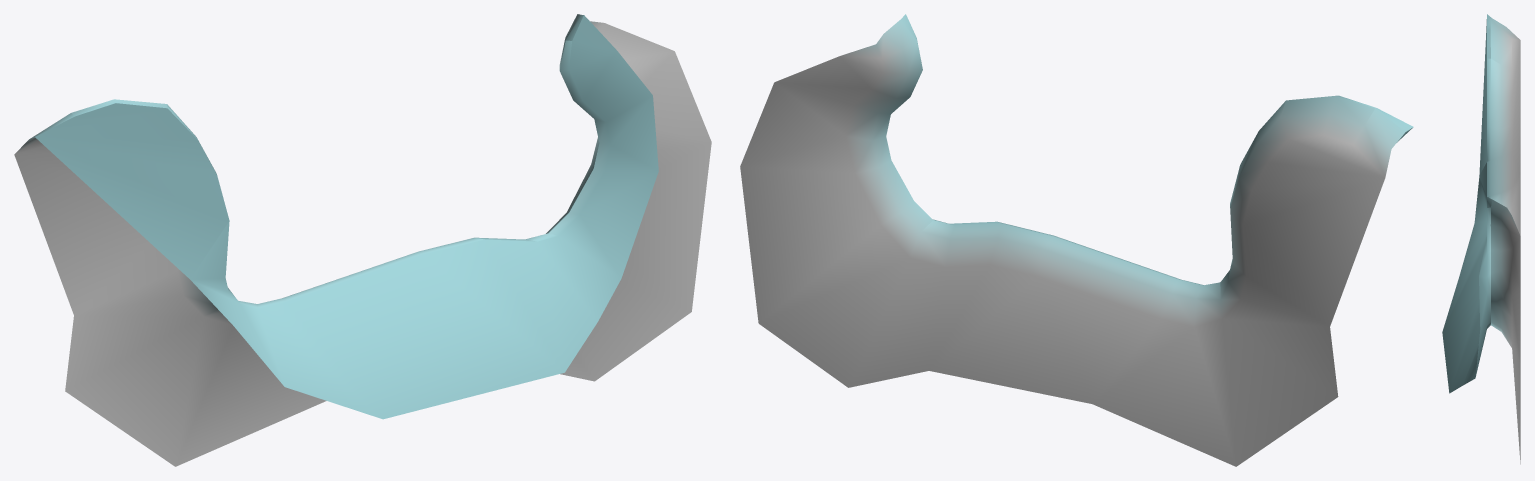
The model's file is EntryCaveSand.fbx.
3 renders of one model, left to right at view 1: azimuth 30°, elevation 25°; view 2: azimuth 150°, elevation 25°; view 3: azimuth 270°, elevation 25°, orthographic. The views are drawn at different scales.
Parts seen in each view (by area): view 1: EntryCaveSand; view 2: EntryCaveSand; view 3: EntryCaveSand.
Boxes of the visible parts, x1,y1,x2,y2 form: EntryCaveSand: (14, 14, 711, 466); EntryCaveSand: (740, 14, 1413, 466); EntryCaveSand: (1442, 14, 1520, 464).
Bounding box in the file's own units: 1110 × 637 × 164.
